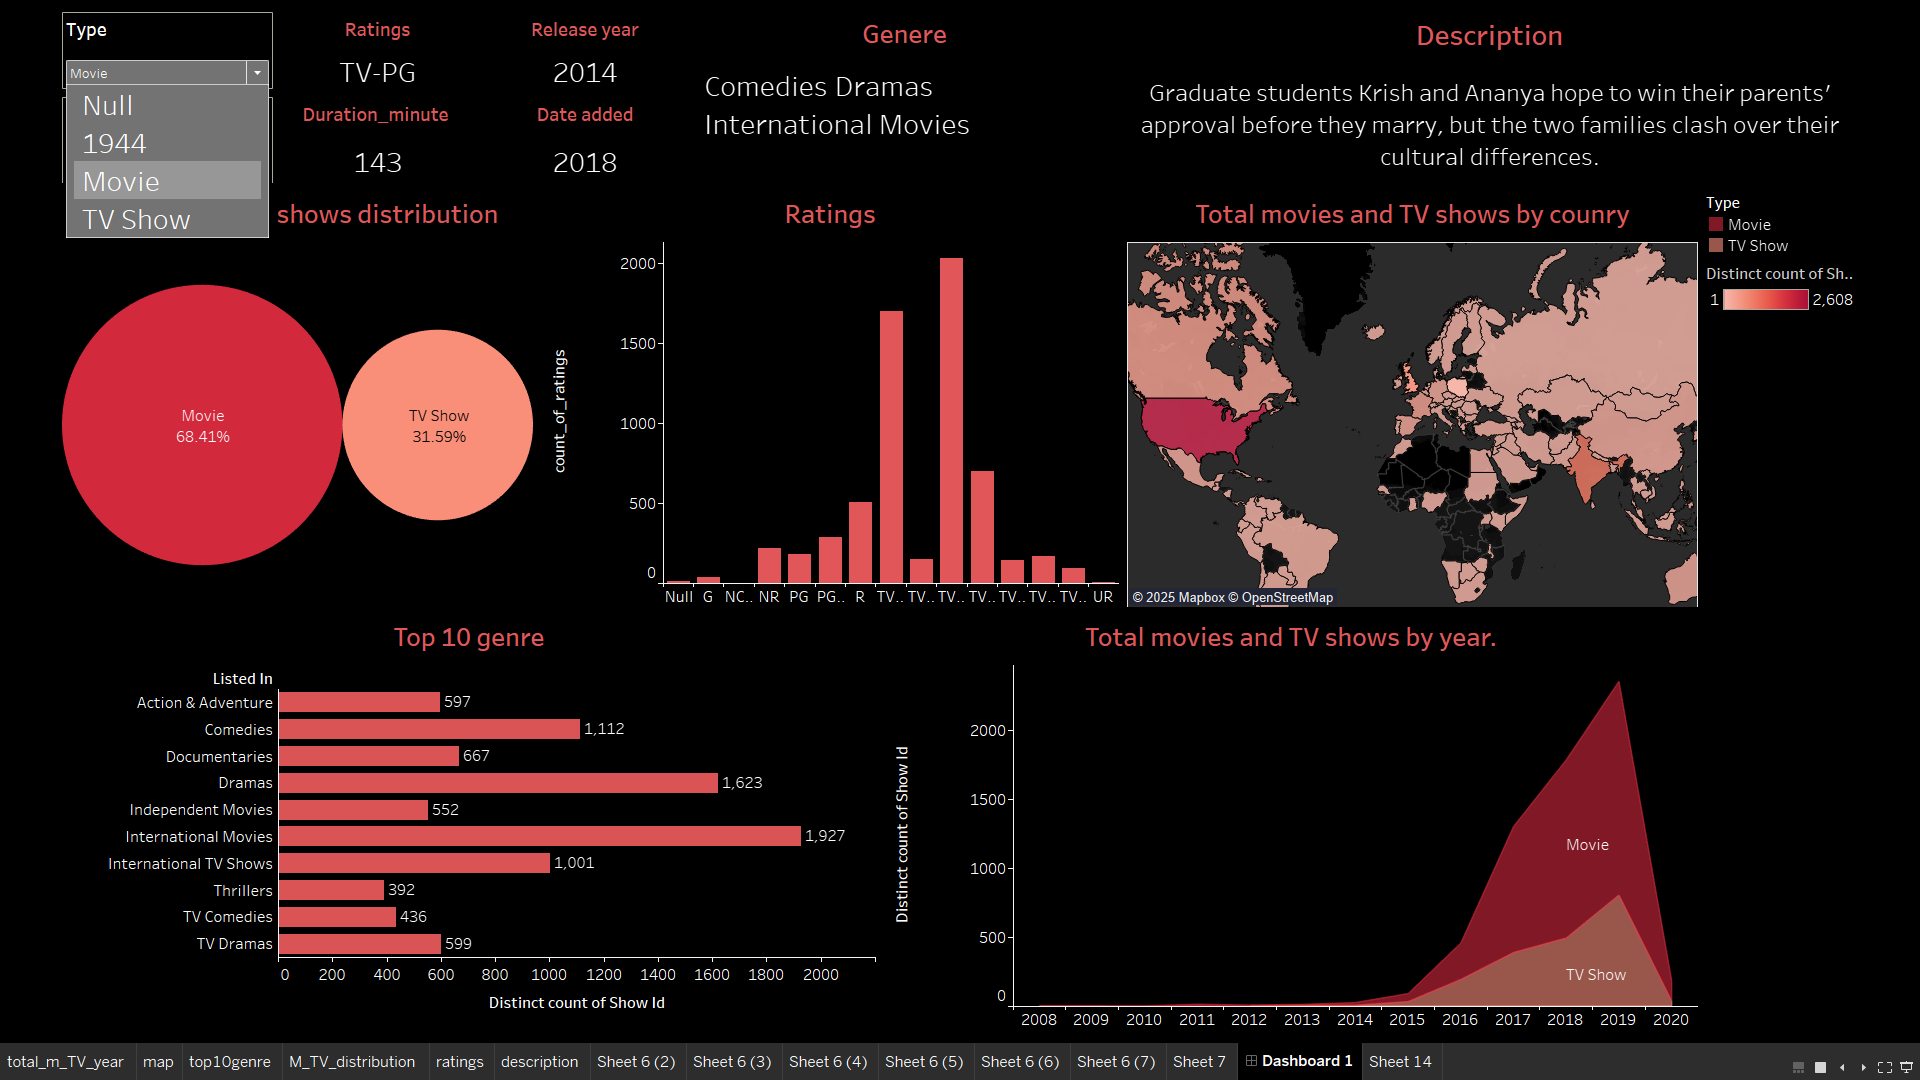

What the dashboard file says about the page in this screenshot:
{"tool":"tableau","page":{"name":"Dashboard 1","canvas":[1000,1000],"units":"permille","ordinal":0},"visuals":[{"type":"filter","title":"Sheet 6 (2)","param":"[federated.1szw9810fdahyl1ahth001ukvwfc].[none:type:nk]","box":[4.7,8.3,120.3,81.2]},{"type":"worksheet","title":"Sheet 6 (5)","mark":"Automatic","box":[125,8.3,110.5,81.2]},{"type":"worksheet","title":"Sheet 6 (6)","mark":"Automatic","box":[235.4,8.3,117.4,81.2]},{"type":"worksheet","title":"Sheet 6 (7)","mark":"Automatic","box":[352.9,8.3,233.1,171.9]},{"type":"worksheet","title":"description","mark":"Automatic","box":[586,8.3,409.3,171.9]},{"type":"filter","title":"description","param":"[federated.1szw9810fdahyl1ahth001ukvwfc].[none:title:nk]","box":[4.7,89.6,120.3,90.6]},{"type":"worksheet","title":"Sheet 6 (3)","mark":"Automatic","box":[125,89.6,110.5,90.6]},{"type":"worksheet","title":"Sheet 6 (2)","mark":"Automatic","box":[235.4,89.6,117.4,90.6]},{"type":"worksheet","title":"M_TV_distribution","mark":"Circle","box":[4.7,180.2,261.6,405.7]},{"type":"worksheet","title":"ratings","mark":"Automatic","rows":["show_id"],"cols":["rating"],"box":[266.2,180.2,319.8,405.7]},{"type":"worksheet","title":"map","mark":"Multipolygon","box":[586,180.2,316.3,405.7]},{"type":"legend","title":"total_m_TV_year","param":"[federated.1szw9810fdahyl1ahth001ukvwfc].[none:type:nk]","box":[902.3,180.2,93,75]},{"type":"legend","title":"map","param":"[federated.1szw9810fdahyl1ahth001ukvwfc].[ctd:show_id:qk]","box":[902.3,255.2,93,76]},{"type":"worksheet","title":"top10genre","mark":"Automatic","rows":["listed_in"],"cols":["show_id"],"box":[4.7,585.9,448.8,405.7]},{"type":"worksheet","title":"total_m_TV_year","mark":"Area","rows":["show_id"],"cols":["date_added"],"box":[453.4,585.9,448.9,405.7]}]}

Visuals, with their boxes on the dashboard's canvas, which has no fixed pixel size, in thousandths of its width and height (x1, y1, x2, y2). These are canvas units, not pixel positions in the 1920x1080 screenshot, which may show the page scaled, cropped or inside an application window:
"Sheet 6 (2)" filter: 5 8 125 90
"Sheet 6 (5)" worksheet: 125 8 236 90
"Sheet 6 (6)" worksheet: 235 8 353 90
"Sheet 6 (7)" worksheet: 353 8 586 180
"description" worksheet: 586 8 995 180
"description" filter: 5 90 125 180
"Sheet 6 (3)" worksheet: 125 90 236 180
"Sheet 6 (2)" worksheet: 235 90 353 180
"M_TV_distribution" worksheet (Circle marks): 5 180 266 586
"ratings" worksheet: 266 180 586 586
"map" worksheet (Multipolygon marks): 586 180 902 586
"total_m_TV_year" legend: 902 180 995 255
"map" legend: 902 255 995 331
"top10genre" worksheet: 5 586 454 992
"total_m_TV_year" worksheet (Area marks): 453 586 902 992
